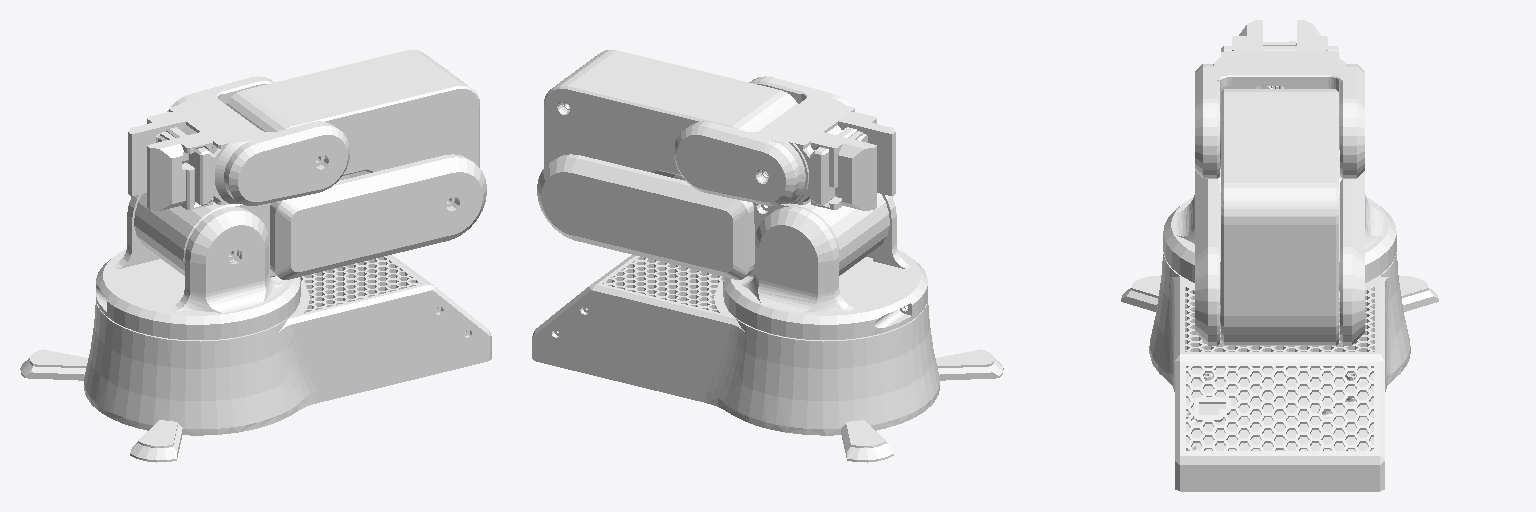
The robot description file, URDF, robot "robot_arm2_description":
<?xml version="1.0" encoding="utf-8"?>
<!-- This URDF was automatically created by SolidWorks to URDF Exporter! Originally created by Stephen Brawner (brawner@gmail.com) 
     Commit Version: 1.6.0-4-g7f85cfe  Build Version: 1.6.7995.38578
     For more information, please see http://wiki.ros.org/sw_urdf_exporter -->
<robot
  name="robot_arm2_description">
  <link
    name="base_link">
    <inertial>
      <origin
        xyz="-0.1698 -0.05285 -0.18307"
        rpy="0 0 0" />
      <mass
        value="0.15077" />
      <inertia
        ixx="0.00018232"
        ixy="1.4601E-05"
        ixz="4.8649E-07"
        iyy="0.00048684"
        iyz="3.2468E-06"
        izz="0.00038499" />
    </inertial>
    <visual>
      <origin
        xyz="0 0 0"
        rpy="0 0 0" />
      <geometry>
        <mesh
          filename="package://robot_arm2_description/meshes/base_link.STL" />
      </geometry>
      <material
        name="">
        <color
          rgba="1 1 1 1" />
      </material>
    </visual>
    <collision>
      <origin
        xyz="0 0 0"
        rpy="0 0 0" />
      <geometry>
        <mesh
          filename="package://robot_arm2_description/meshes/base_link.STL" />
      </geometry>
    </collision>
  </link>
  <link
    name="Empty_Link1">
    <inertial>
      <origin
        xyz="-0.00061893 -0.0022184 0.013845"
        rpy="0 0 0" />
      <mass
        value="0.056355" />
      <inertia
        ixx="4.7087E-05"
        ixy="9.0578E-08"
        ixz="-8.9365E-08"
        iyy="3.3897E-05"
        iyz="1.2007E-06"
        izz="6.17E-05" />
    </inertial>
    <visual>
      <origin
        xyz="0 0 0"
        rpy="0 0 0" />
      <geometry>
        <mesh
          filename="package://robot_arm2_description/meshes/Empty_Link1.STL" />
      </geometry>
      <material
        name="">
        <color
          rgba="1 1 1 1" />
      </material>
    </visual>
    <collision>
      <origin
        xyz="0 0 0"
        rpy="0 0 0" />
      <geometry>
        <mesh
          filename="package://robot_arm2_description/meshes/Empty_Link1.STL" />
      </geometry>
    </collision>
  </link>
  <joint
    name="J1"
    type="revolute">
    <origin
      xyz="-0.19012 0.1825 -0.0325"
      rpy="0 0 3.1416" />
    <parent
      link="base_link" />
    <child
      link="Empty_Link1" />
    <axis
      xyz="0 0 -1" />
    <limit
      lower="0"
      upper="0"
      effort="0"
      velocity="0" />
  </joint>
  <link
    name="Empty_Link2">
    <inertial>
      <origin
        xyz="-0.0540152365441462 -0.00027850788285249 0.00287258804127491"
        rpy="0 0 0" />
      <mass
        value="0.0943036351242445" />
      <inertia
        ixx="7.00395109614572E-05"
        ixy="-2.89904301752358E-07"
        ixz="4.44263366807282E-06"
        iyy="0.000185111273809948"
        iyz="-9.5964150347015E-09"
        izz="0.00014438982236278" />
    </inertial>
    <visual>
      <origin
        xyz="0 0 0"
        rpy="0 0 0" />
      <geometry>
        <mesh
          filename="package://robot_arm2_description/meshes/Empty_Link2.STL" />
      </geometry>
      <material
        name="">
        <color
          rgba="1 1 1 1" />
      </material>
    </visual>
    <collision>
      <origin
        xyz="0 0 0"
        rpy="0 0 0" />
      <geometry>
        <mesh
          filename="package://robot_arm2_description/meshes/Empty_Link2.STL" />
      </geometry>
    </collision>
  </link>
  <joint
    name="J2"
    type="revolute">
    <origin
      xyz="0 0 0.0325"
      rpy="1.5708 0 0" />
    <parent
      link="Empty_Link1" />
    <child
      link="Empty_Link2" />
    <axis
      xyz="0 0 1" />
    <limit
      lower="0"
      upper="0"
      effort="0"
      velocity="0" />
  </joint>
  <link
    name="Empty_Link3">
    <inertial>
      <origin
        xyz="0.0239378694663576 0.024917571639988 -0.0022378200225909"
        rpy="0 0 0" />
      <mass
        value="0.0672117855059067" />
      <inertia
        ixx="4.7132404585826E-05"
        ixy="-1.48543663708376E-05"
        ixz="2.55140729507865E-06"
        iyy="8.94174316686288E-05"
        iyz="-1.0708901644033E-06"
        izz="9.57025391970068E-05" />
    </inertial>
    <visual>
      <origin
        xyz="0 0 0"
        rpy="0 0 0" />
      <geometry>
        <mesh
          filename="package://robot_arm2_description/meshes/Empty_Link3.STL" />
      </geometry>
      <material
        name="">
        <color
          rgba="1 1 1 1" />
      </material>
    </visual>
    <collision>
      <origin
        xyz="0 0 0"
        rpy="0 0 0" />
      <geometry>
        <mesh
          filename="package://robot_arm2_description/meshes/Empty_Link3.STL" />
      </geometry>
    </collision>
  </link>
  <joint
    name="J3"
    type="revolute">
    <origin
      xyz="-0.11 0 0"
      rpy="0 0 0" />
    <parent
      link="Empty_Link2" />
    <child
      link="Empty_Link3" />
    <axis
      xyz="0 0 1" />
    <limit
      lower="0"
      upper="0"
      effort="0"
      velocity="0" />
  </joint>
  <link
    name="Empty_Link4">
    <inertial>
      <origin
        xyz="0.0291342485138213 9.85660582764475E-05 0.00119008431121928"
        rpy="0 0 0" />
      <mass
        value="0.0521606802869807" />
      <inertia
        ixx="2.93354782592522E-05"
        ixy="-4.05276633442892E-08"
        ixz="2.0621313073729E-06"
        iyy="3.96112735027713E-05"
        iyz="2.15810457235452E-09"
        izz="1.94390980307816E-05" />
    </inertial>
    <visual>
      <origin
        xyz="0 0 0"
        rpy="0 0 0" />
      <geometry>
        <mesh
          filename="package://robot_arm2_description/meshes/Empty_Link4.STL" />
      </geometry>
      <material
        name="">
        <color
          rgba="1 1 1 1" />
      </material>
    </visual>
    <collision>
      <origin
        xyz="0 0 0"
        rpy="0 0 0" />
      <geometry>
        <mesh
          filename="package://robot_arm2_description/meshes/Empty_Link4.STL" />
      </geometry>
    </collision>
  </link>
  <joint
    name="J4"
    type="revolute">
    <origin
      xyz="0.066203 0.0355 0"
      rpy="0 0 0" />
    <parent
      link="Empty_Link3" />
    <child
      link="Empty_Link4" />
    <axis
      xyz="0 0 -1" />
    <limit
      lower="0"
      upper="0"
      effort="0"
      velocity="0" />
  </joint>
  <link
    name="Empty_TOOT">
    <inertial>
      <origin
        xyz="0.0618899433669391 -8.54632837164124E-05 -5.35880192556459E-06"
        rpy="0 0 0" />
      <mass
        value="0.0109737720178714" />
      <inertia
        ixx="2.29253403988498E-06"
        ixy="2.12425126817291E-09"
        ixz="-2.73800756106607E-10"
        iyy="1.78537624572278E-06"
        iyz="-8.06045050119882E-08"
        izz="1.32140759692674E-06" />
    </inertial>
    <visual>
      <origin
        xyz="0 0 0"
        rpy="0 0 0" />
      <geometry>
        <mesh
          filename="package://robot_arm2_description/meshes/Empty_TOOT.STL" />
      </geometry>
      <material
        name="">
        <color
          rgba="1 1 1 1" />
      </material>
    </visual>
    <collision>
      <origin
        xyz="0 0 0"
        rpy="0 0 0" />
      <geometry>
        <mesh
          filename="package://robot_arm2_description/meshes/Empty_TOOT.STL" />
      </geometry>
    </collision>
  </link>
  <joint
    name="T1"
    type="fixed">
    <origin
      xyz="0 0 0"
      rpy="0 0 0" />
    <parent
      link="Empty_Link4" />
    <child
      link="Empty_TOOT" />
    <axis
      xyz="0 0 0" />
  </joint>
</robot>

--- Render facts (derived) ---
Views: 3 orthographic renders of the robot side by side, from view 1: azimuth 30°, elevation 25°; view 2: azimuth 150°, elevation 25°; view 3: azimuth 270°, elevation 25°.
Model robot_arm2_description with 6 links and 5 joints (4 revolute, 1 fixed), rooted at base_link, posed all joints at 0.
Visible links, largest first — view 1: base_link, Empty_Link2, Empty_Link3, Empty_Link1, Empty_Link4, Empty_TOOT; view 2: base_link, Empty_Link2, Empty_Link3, Empty_Link1, Empty_Link4, Empty_TOOT; view 3: base_link, Empty_Link3, Empty_Link4, Empty_Link2, Empty_Link1, Empty_TOOT.
Link boxes in pixels (x1=…): base_link: x1=20, y1=255, x2=491, y2=462; Empty_Link2: x1=134, y1=154, x2=486, y2=279; Empty_Link3: x1=226, y1=49, x2=479, y2=206; Empty_Link1: x1=96, y1=194, x2=300, y2=339; Empty_Link4: x1=166, y1=76, x2=349, y2=205; Empty_TOOT: x1=128, y1=112, x2=212, y2=210; base_link: x1=532, y1=255, x2=1003, y2=462; Empty_Link2: x1=537, y1=154, x2=889, y2=279; Empty_Link3: x1=544, y1=49, x2=797, y2=177; Empty_Link1: x1=723, y1=194, x2=927, y2=339; Empty_Link4: x1=674, y1=76, x2=857, y2=205; Empty_TOOT: x1=811, y1=112, x2=895, y2=210; base_link: x1=1121, y1=252, x2=1438, y2=491; Empty_Link3: x1=1220, y1=89, x2=1338, y2=345; Empty_Link4: x1=1195, y1=46, x2=1364, y2=178; Empty_Link2: x1=1195, y1=157, x2=1364, y2=345; Empty_Link1: x1=1163, y1=171, x2=1396, y2=291; Empty_TOOT: x1=1232, y1=20, x2=1327, y2=88.
Bounding box of the posed robot: 0.191 × 0.1219 × 0.1275 m (x, y, z).
Meshes: 6 distinct files referenced, 6 mesh visuals loaded (6 binary STL).
